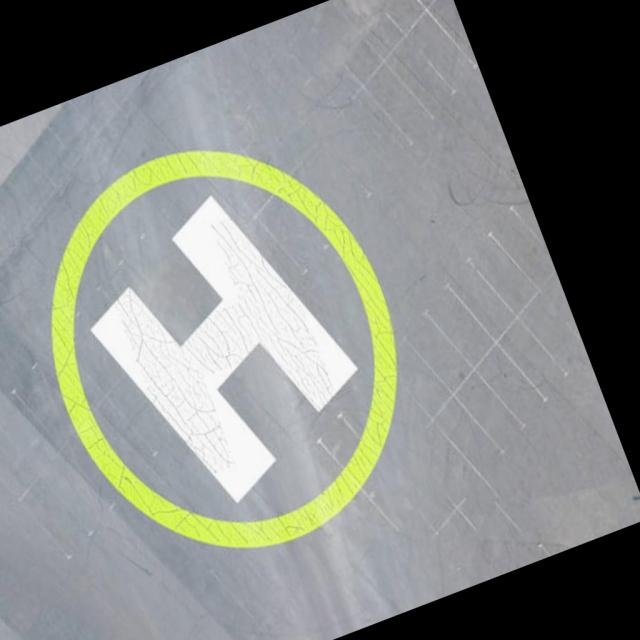helipad: (40, 141, 401, 551)
